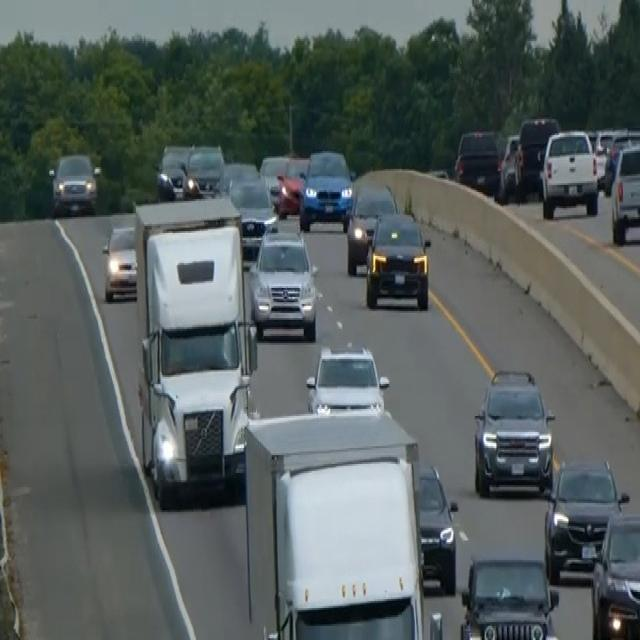car: (472, 364, 555, 498), (543, 455, 628, 581), (459, 553, 560, 638), (248, 226, 318, 340), (364, 210, 432, 311), (589, 510, 639, 638), (305, 342, 390, 414), (539, 126, 599, 219), (416, 462, 458, 594), (345, 180, 398, 274), (298, 148, 353, 231), (228, 175, 278, 262), (513, 114, 559, 197), (453, 126, 500, 196), (49, 149, 98, 215), (609, 138, 639, 244), (101, 220, 138, 302), (184, 140, 226, 198), (155, 141, 192, 199), (275, 155, 308, 217), (259, 153, 289, 208), (498, 132, 521, 199), (222, 158, 259, 194)
lorry: (242, 406, 430, 638), (132, 192, 258, 507)
